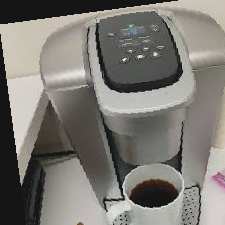10oz: (136, 54, 144, 60)
12oz: (152, 51, 160, 58)
4oz: (126, 48, 134, 54)
6oz: (141, 46, 150, 52)
8oz: (121, 57, 129, 63)
coffee_handle: (119, 101, 187, 123)
water_handle: (46, 84, 92, 95)
